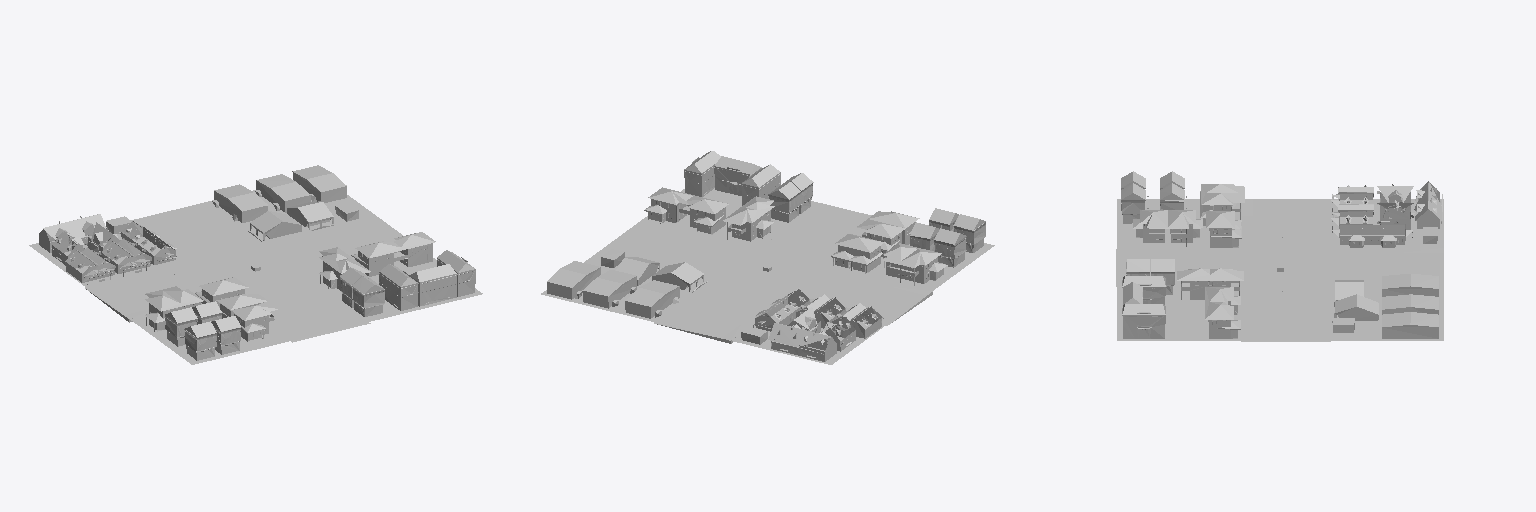
The model's file is Street environment_V04.obj.
3 renders of one model, left to right at view 1: azimuth 30°, elevation 25°; view 2: azimuth 150°, elevation 25°; view 3: azimuth 270°, elevation 25°, orthographic.
Parts seen in each view (by area): view 1: Street_environment_V01; view 2: Street_environment_V01; view 3: Street_environment_V01.
Boxes of the visible parts, x1,y1,x2,y2 form: Street_environment_V01: [29, 165, 482, 364]; Street_environment_V01: [541, 151, 994, 364]; Street_environment_V01: [1116, 171, 1443, 341].
Size of the model in its own units: 96.86 by 10.91 by 94.37.